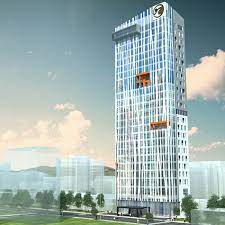high_rise_building: (111, 1, 194, 208)
